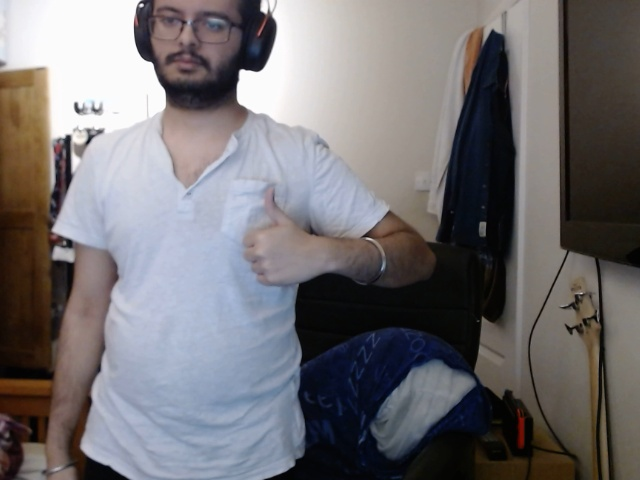Thumbs up: (232, 180, 321, 303)
